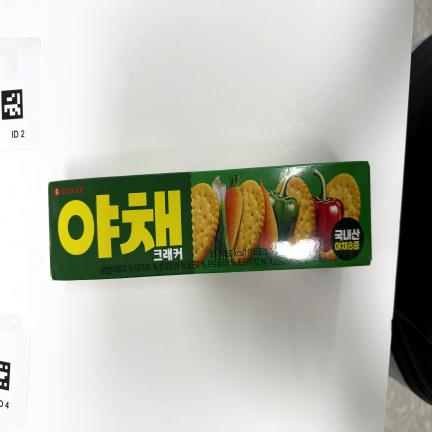cracker_vege: (48, 161, 372, 280)
